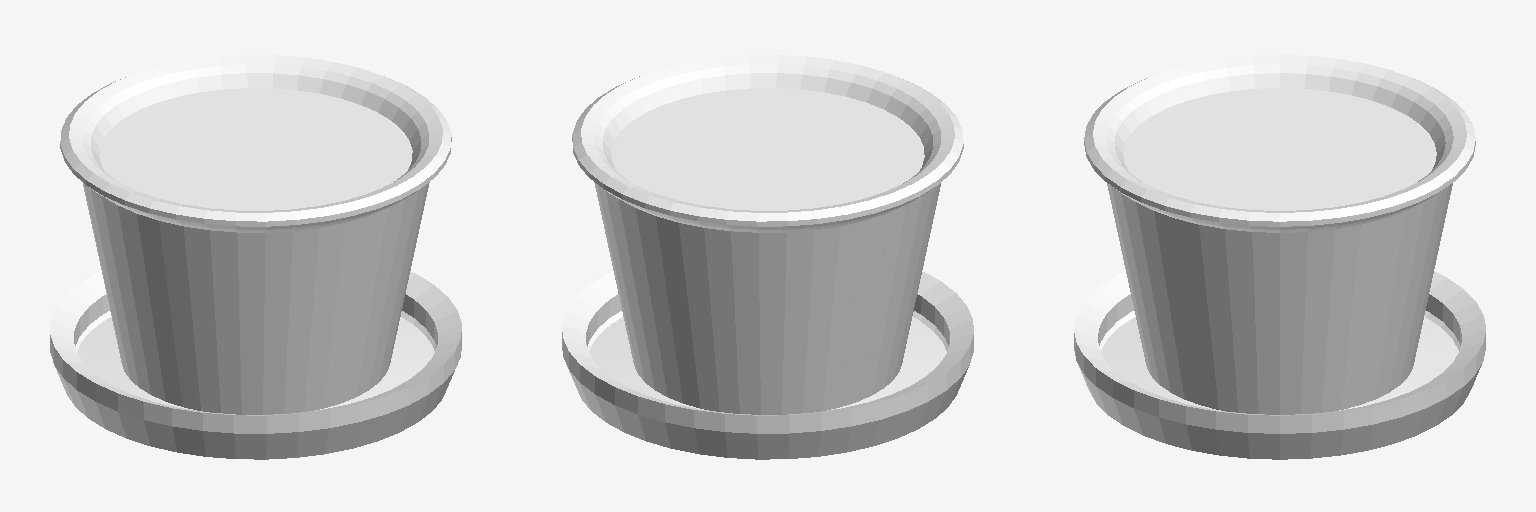
The model's file is flowerpot3.obj.
3 views of the same model, side by side, from view 1: azimuth 30°, elevation 25°; view 2: azimuth 150°, elevation 25°; view 3: azimuth 270°, elevation 25° (orthographic).
Visible parts, largest first — view 1: grp1; view 2: grp1; view 3: grp1.
Part boxes in pixels (x1,y1,x2,y2): grp1: (50,55,461,459); grp1: (562,55,973,459); grp1: (1074,55,1485,459).
Size of the model in its own units: 11.42 by 7.46 by 11.42.